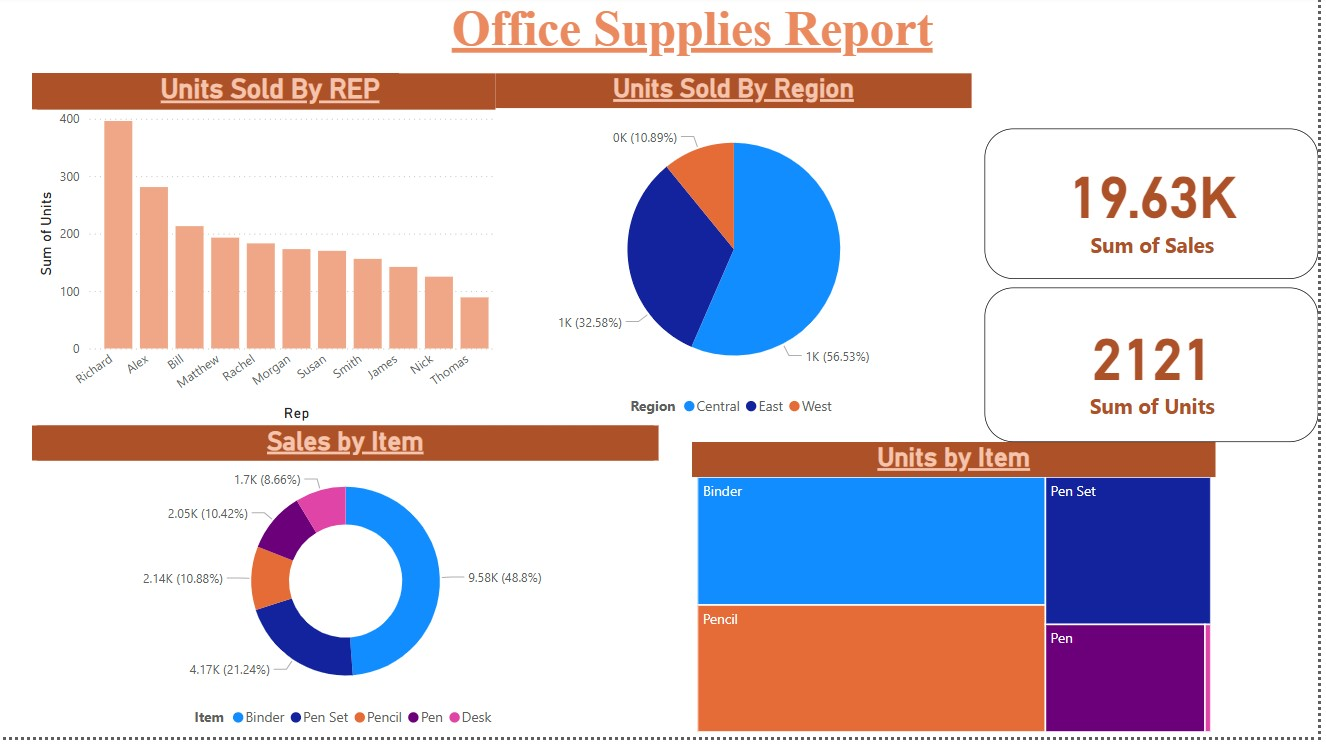

Layout of this report page (visuals, bound fields, positions):
{"tool":"powerbi","page":{"name":"Page 1","canvas":[1280,720],"ordinal":0},"visuals":[{"type":"columnChart","title":"Units Sold By REP","fields":{"Category":["P1-OfficeSupplies.Rep"],"Y":["P1-OfficeSupplies.Units"]},"box":[32,76,462,342],"z":0},{"type":"pieChart","title":"Units Sold By Region","fields":{"Category":["P1-OfficeSupplies.Region"],"Y":["P1-OfficeSupplies.Units"]},"box":[482,76,462,342],"z":1000},{"type":"treemap","title":" Units by Item","fields":{"Values":["P1-OfficeSupplies.Units"],"Group":["P1-OfficeSupplies.Item"]},"box":[672,434,508,286],"z":2000},{"type":"donutChart","title":"Sales by Item","fields":{"Y":["P1-OfficeSupplies.Sales"],"Category":["P1-OfficeSupplies.Item"]},"box":[32,418,608,302],"z":3000},{"type":"card","fields":{"Values":["P1-OfficeSupplies.Sales"]},"box":[956,130,324,146],"z":4000},{"type":"card","fields":{"Values":["P1-OfficeSupplies.Units"]},"box":[956,284,324,150],"z":5000},{"type":"textbox","box":[388,0,568,76],"z":6000}]}

Visuals, with their boxes in screenshot pixels (x1, y1, x2, y2), scaled from the page's 1280x720 canvas onto the 1326x744 screenshot:
"Units Sold By REP" columnChart: box(33, 79, 512, 432)
"Units Sold By Region" pieChart: box(499, 79, 978, 432)
" Units by Item" treemap: box(696, 448, 1222, 743)
"Sales by Item" donutChart: box(33, 432, 663, 743)
card - P1-OfficeSupplies.Sales: box(990, 134, 1325, 285)
card - P1-OfficeSupplies.Units: box(990, 293, 1325, 448)
textbox: box(402, 0, 990, 79)
